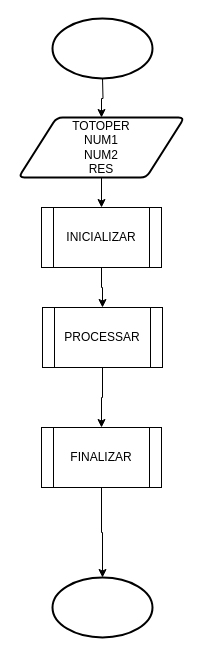
Some shapes in this 202 by 655 pixel diagram are drawn without their labels. The shapes that lost their labels are listed below. From the top down, each one's centre as x and y in pixels, then its label:
(x=102, y=48): INICIO
(x=102, y=607): FIM
